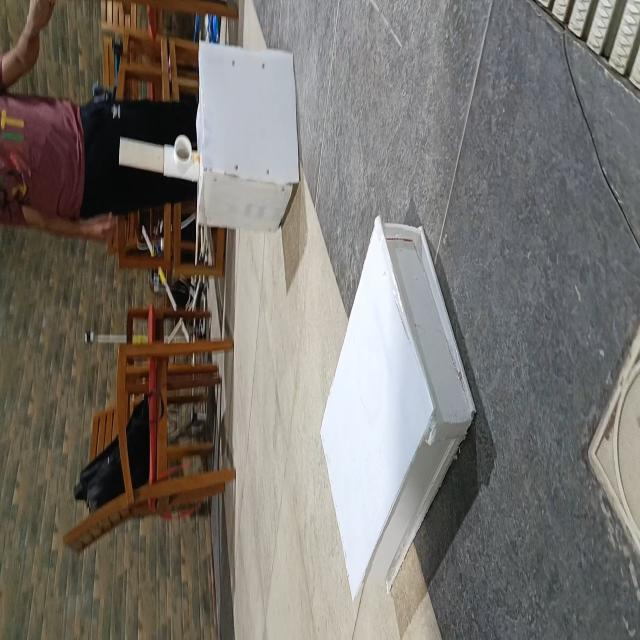Cube: (195, 39, 300, 232)
Cuboid: (319, 214, 476, 600)
